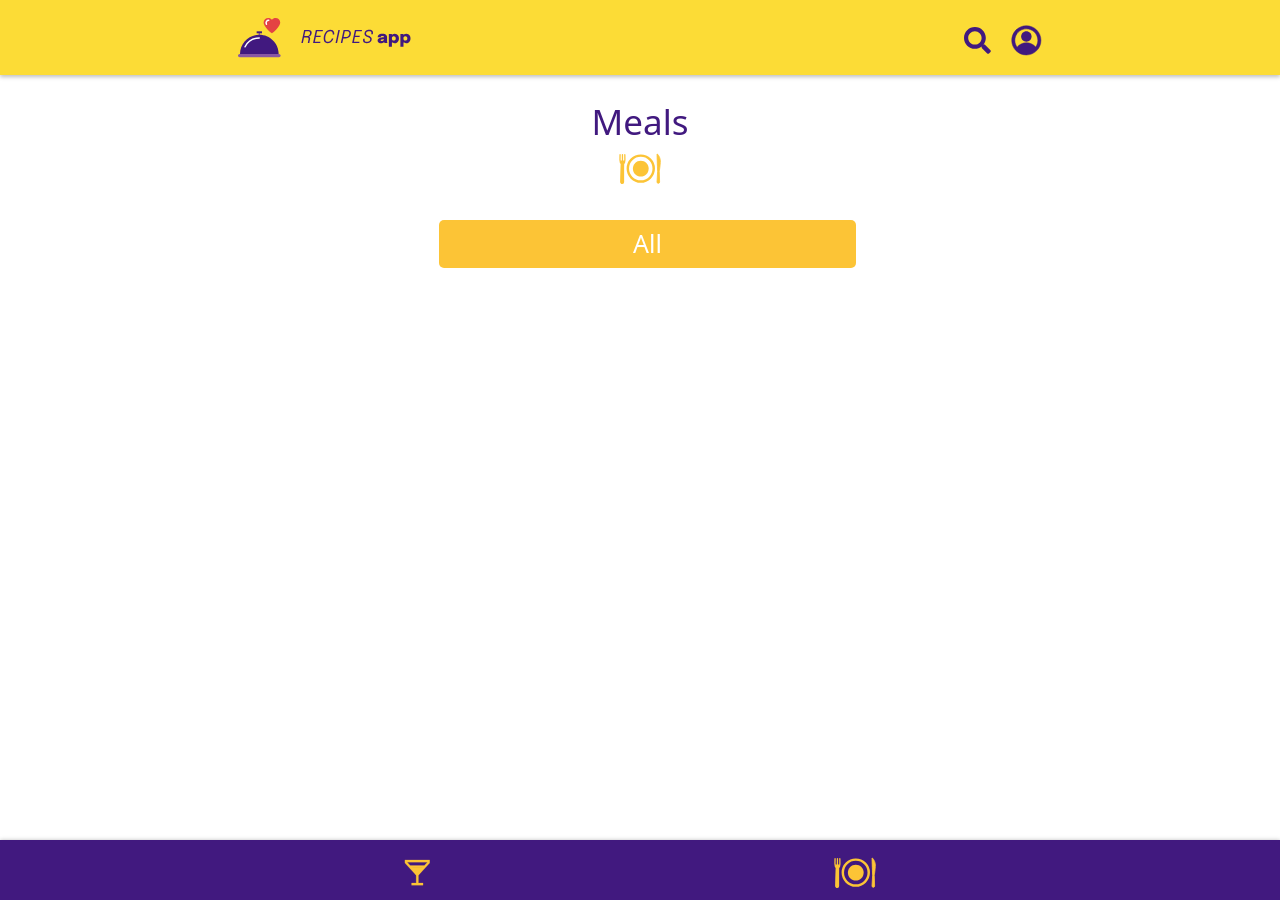
Test: Testes do componente SearchBar › Se ao clicar no botão de pesquisa no Header, o searchBar aparece
The width and height of the screenshot is (1280, 900).
Expected: the heading "Meals" is shown, x1=592 y1=101 x2=688 y2=143
Expected: the heading with test id "page-title" reads "Meals", x1=592 y1=98 x2=688 y2=145
Click the button with test id "search-top-btn" at (978, 38), box x1=954 y1=19 x2=1001 y2=56
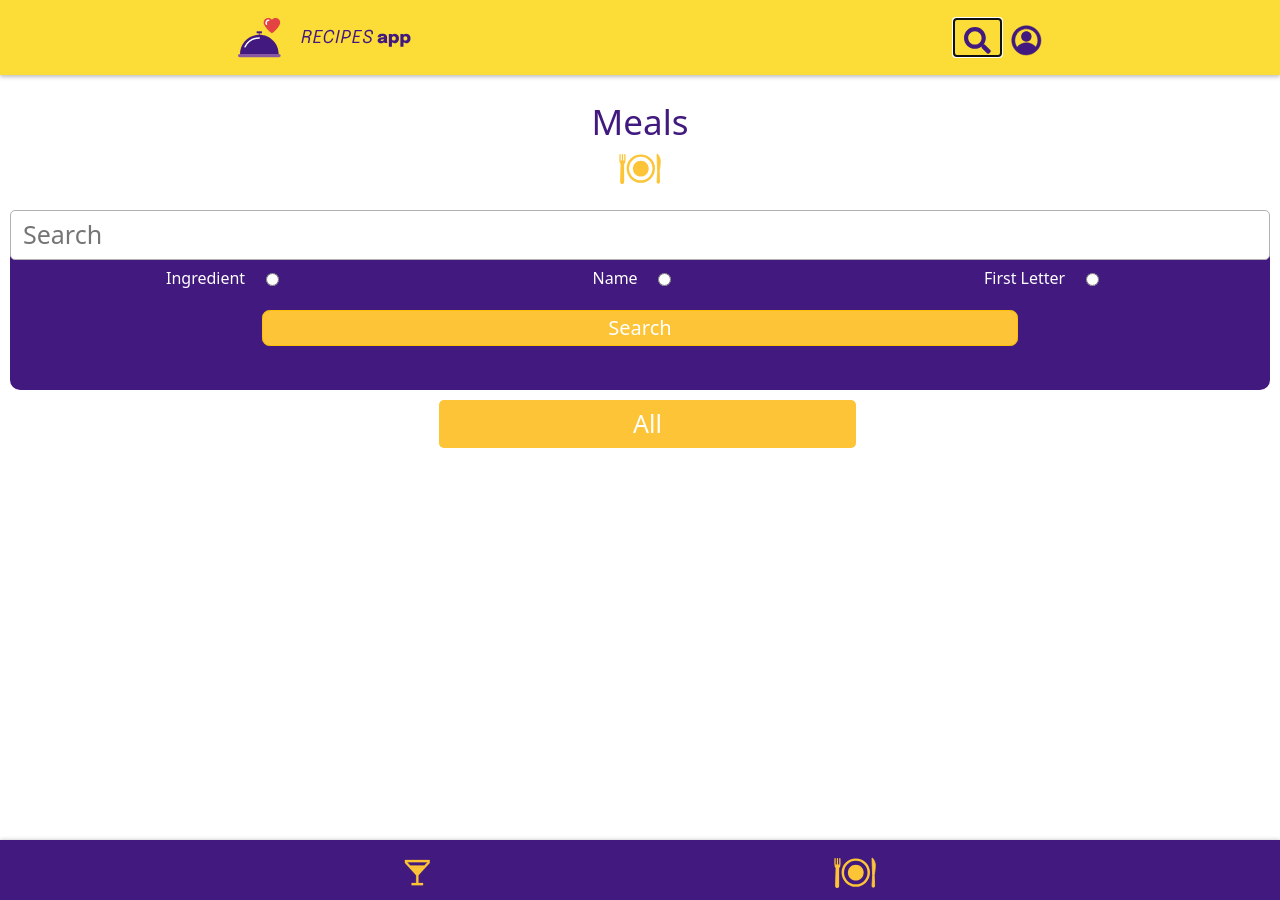
Now the field with test id "search-input" is shown, box x1=10 y1=210 x2=1270 y2=260
